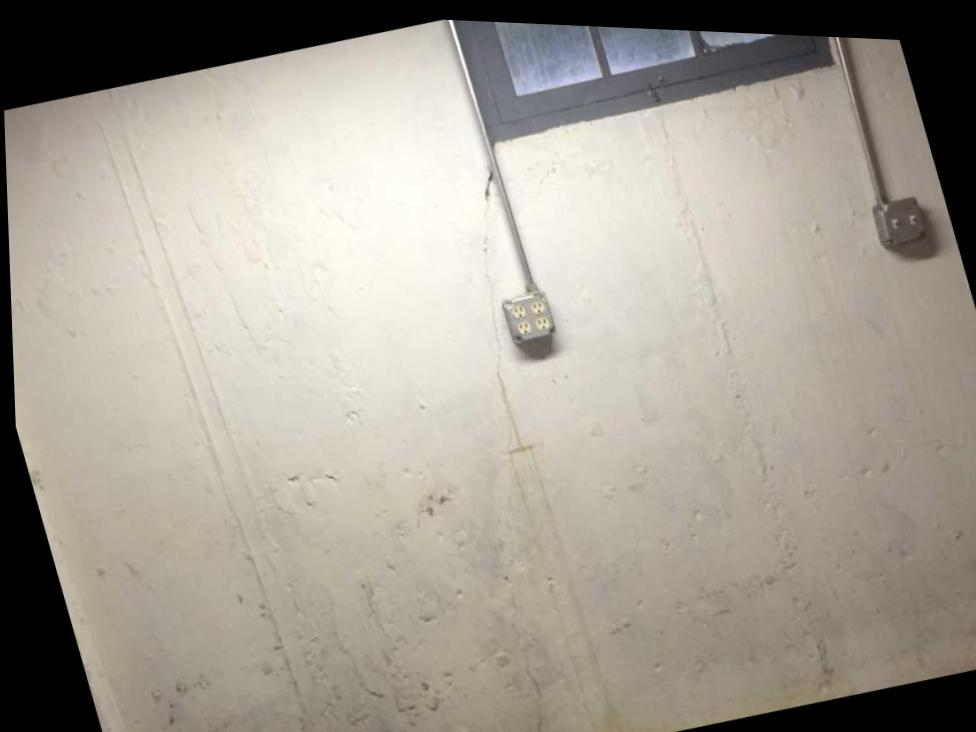crack: (483, 167, 518, 442)
